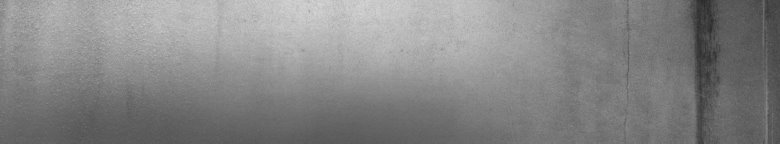ka: (623, 4, 776, 136)
